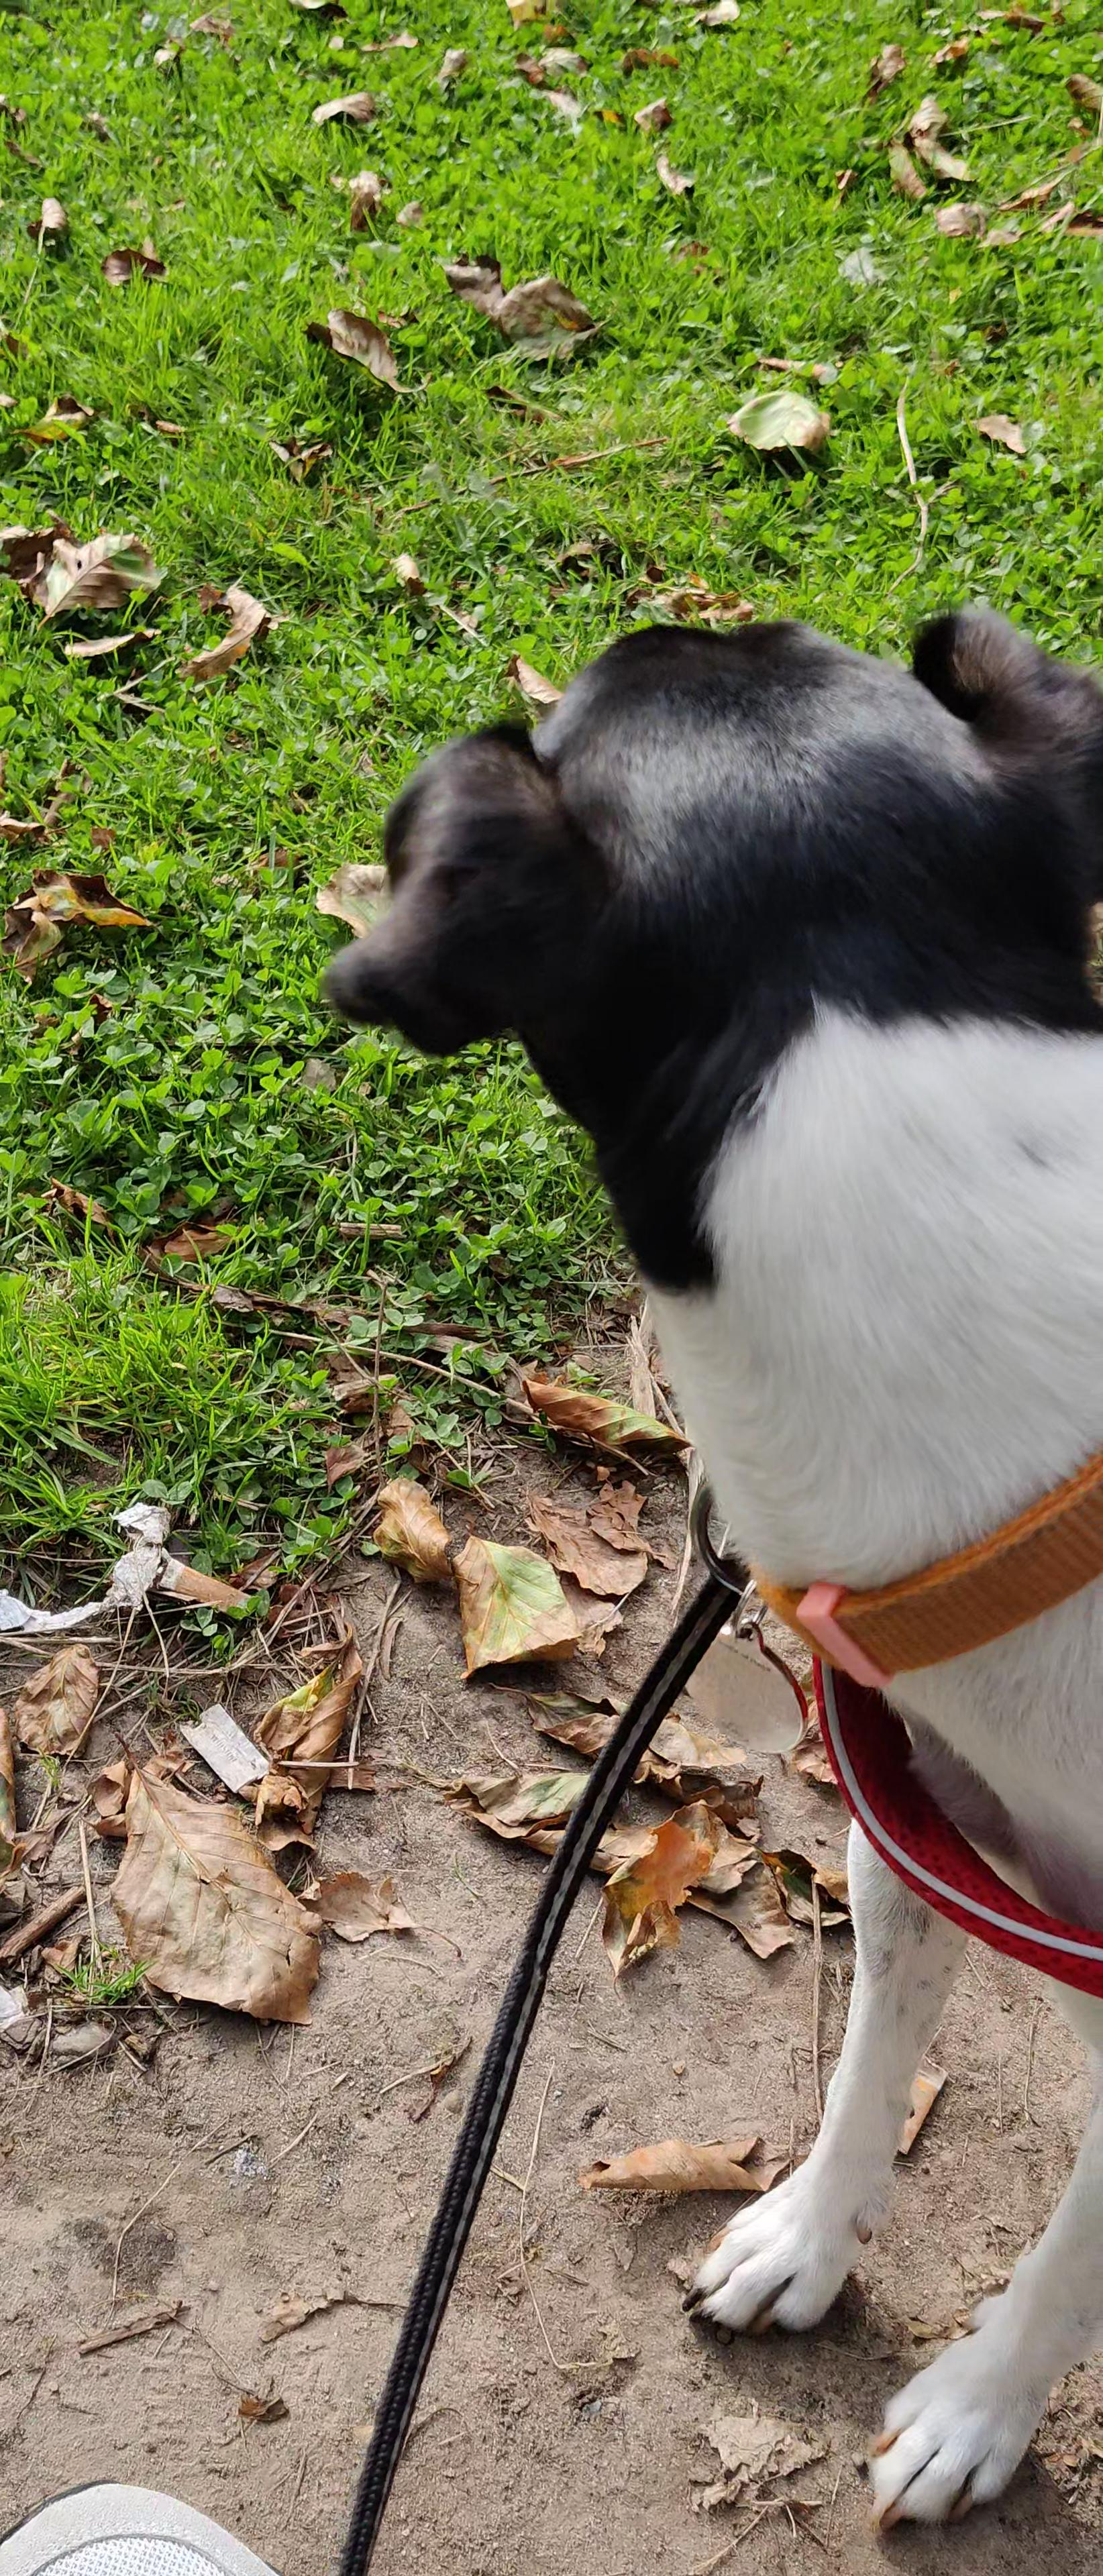Dog: (279, 542, 1103, 2545)
